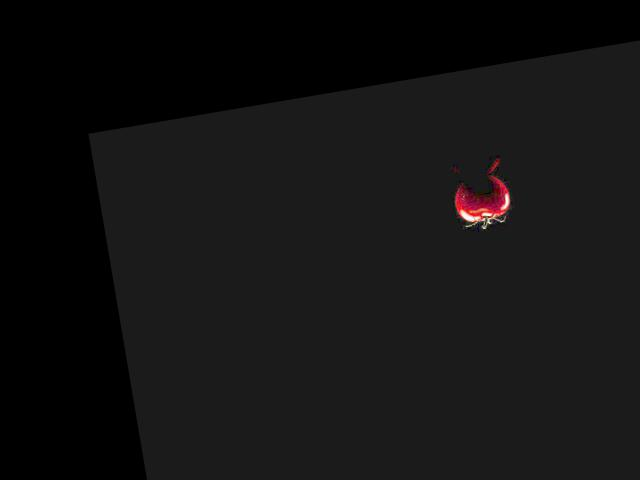tomato: (451, 173, 512, 226)
